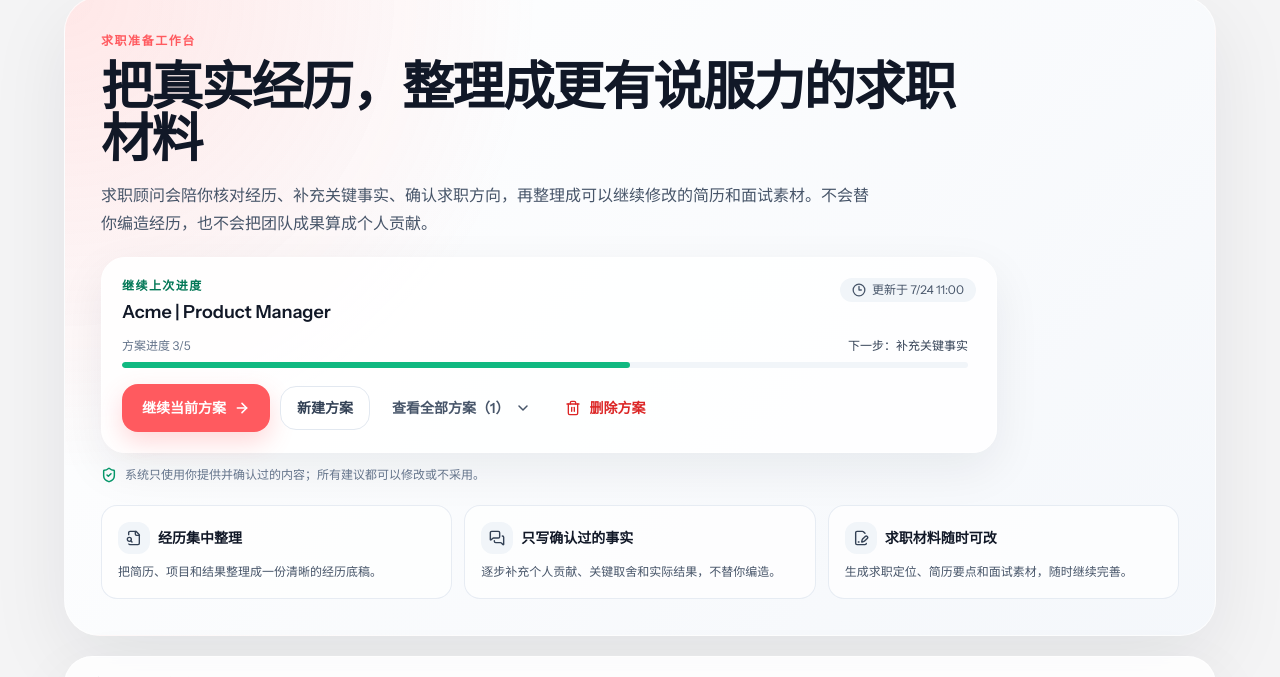
Test: App › updates review readiness from the stream and unlocks only after user confirmation
This screenshot has width=1280, height=677.
Click the button "继续当前方案" at (196, 408), box [122,384,270,432]
(page scrolled)
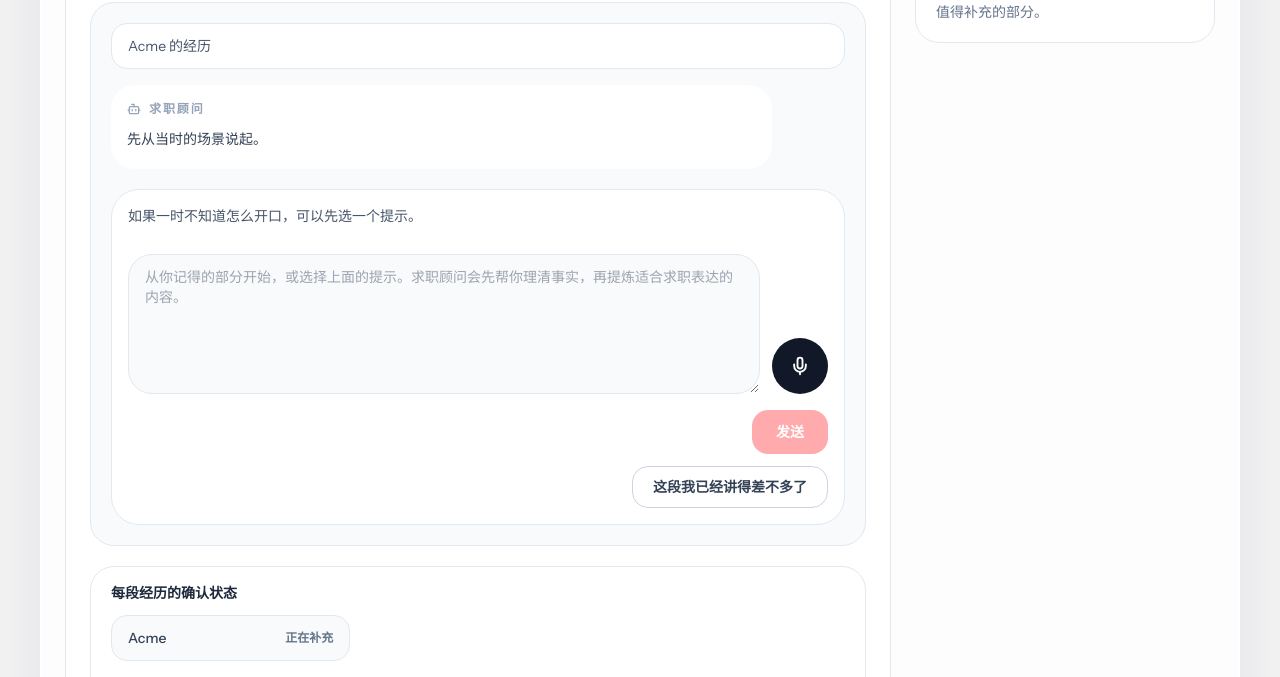
Type "我补充了关键判断。" into the text box with placeholder "从你记得的部分开始，或选择上面的提示。求职顾问会先帮你理清事实，再提炼适合求职表达的内容。" at (444, 324), box [128,254,760,394]
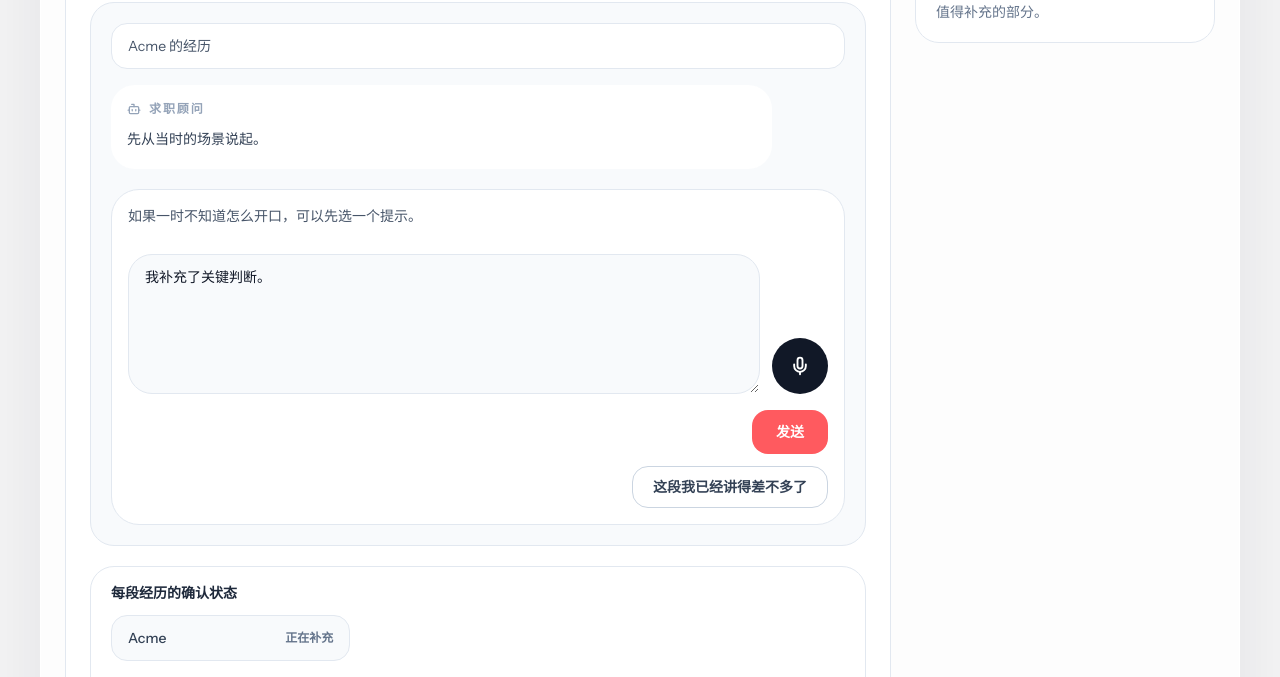
Click the button "发送" at (790, 432), box [752,410,828,454]
(page scrolled)
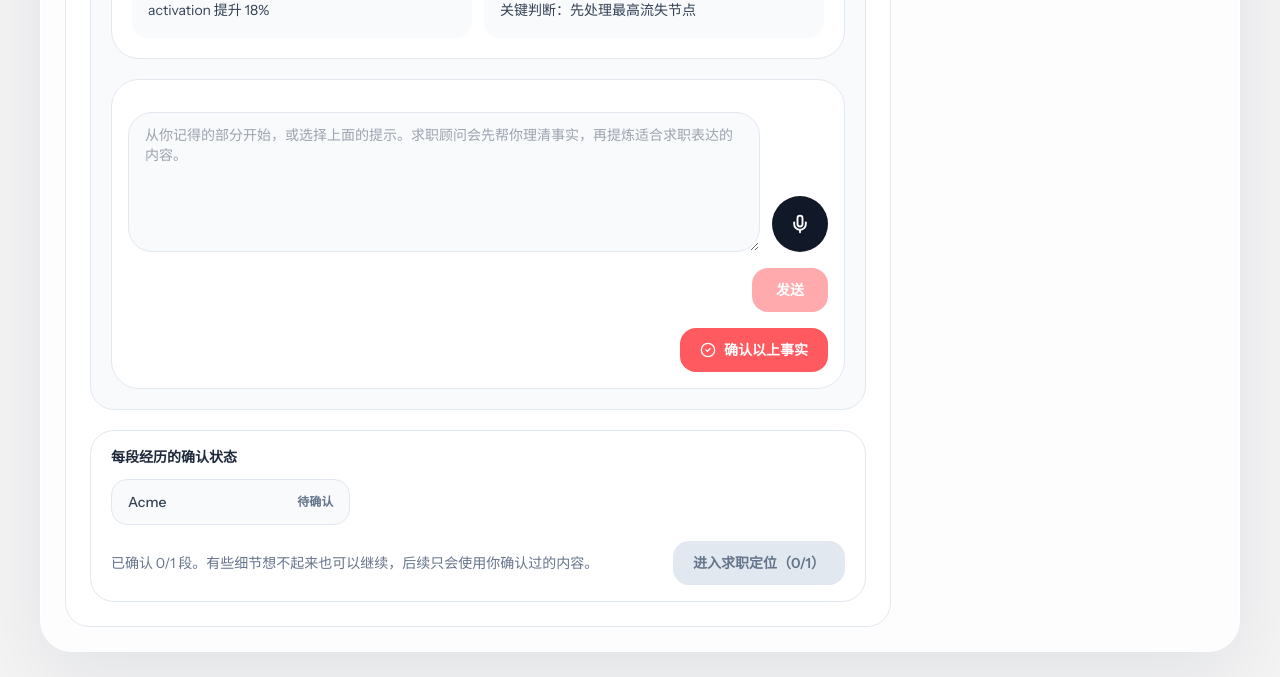
Expected: the button "进入求职定位（0/1）" is disabled, [673,541,845,585]
Expected: the button "确认以上事实" is shown
Click the button "确认以上事实" at (754, 350), box [680,328,828,372]
(page scrolled)
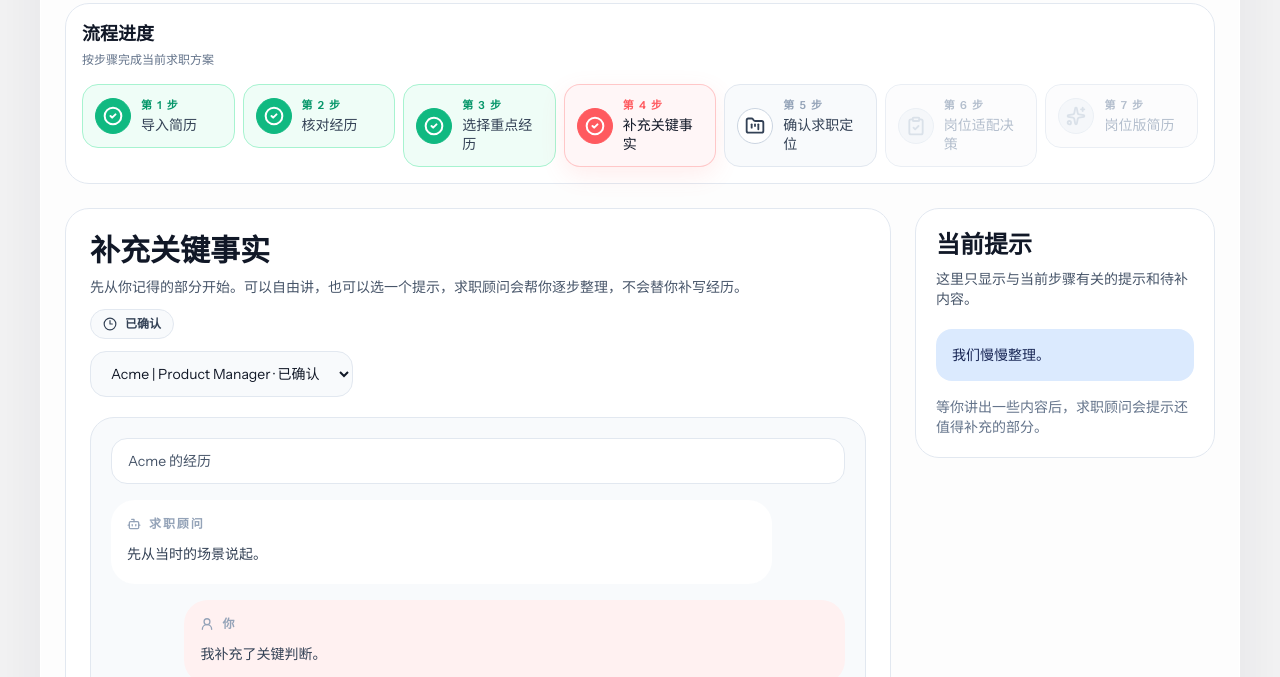
Expected: the text "已确认" is shown, [90,309,174,339]
